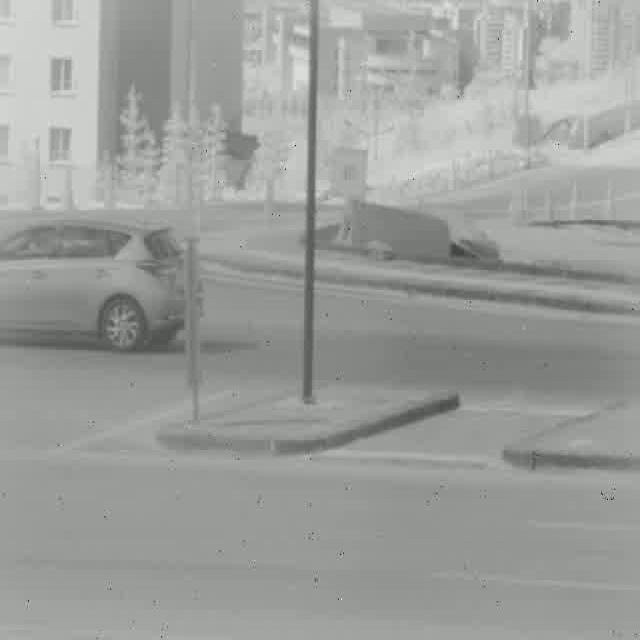Car: (0, 222, 204, 352)
